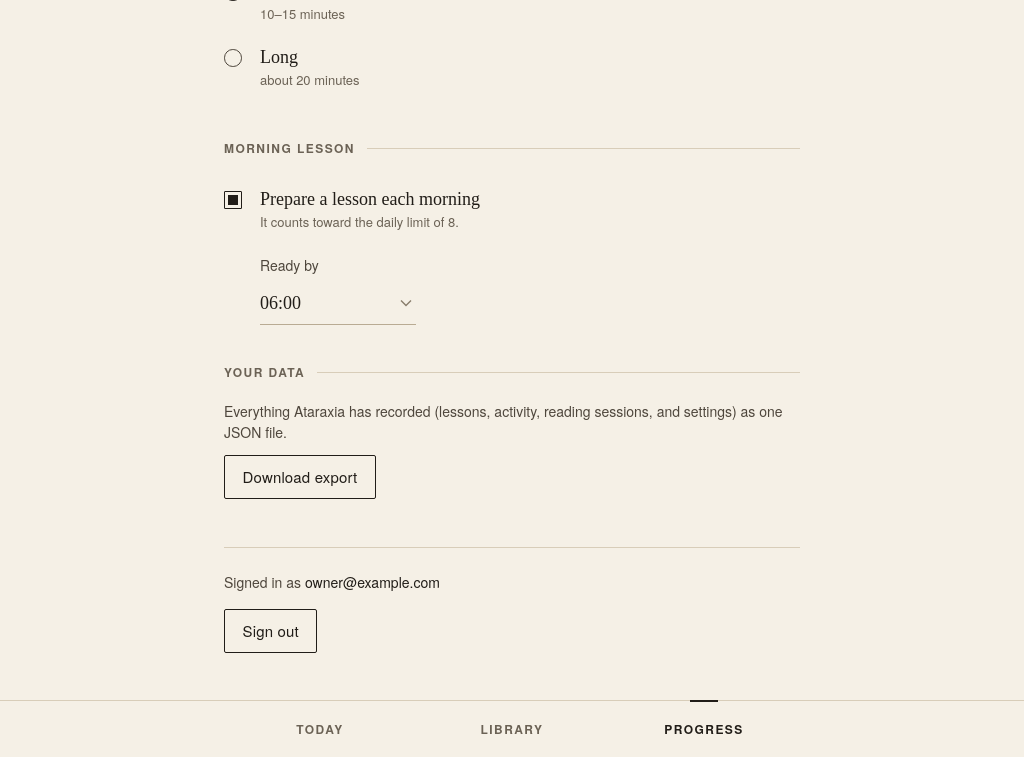
Settings › signs out in firebase mode
(page scrolled)
Check: the text "owner@example.com" is shown, box [305,572,440,592]
Click the button "Sign out": (271, 631) [224,609,317,653]
(page scrolled)
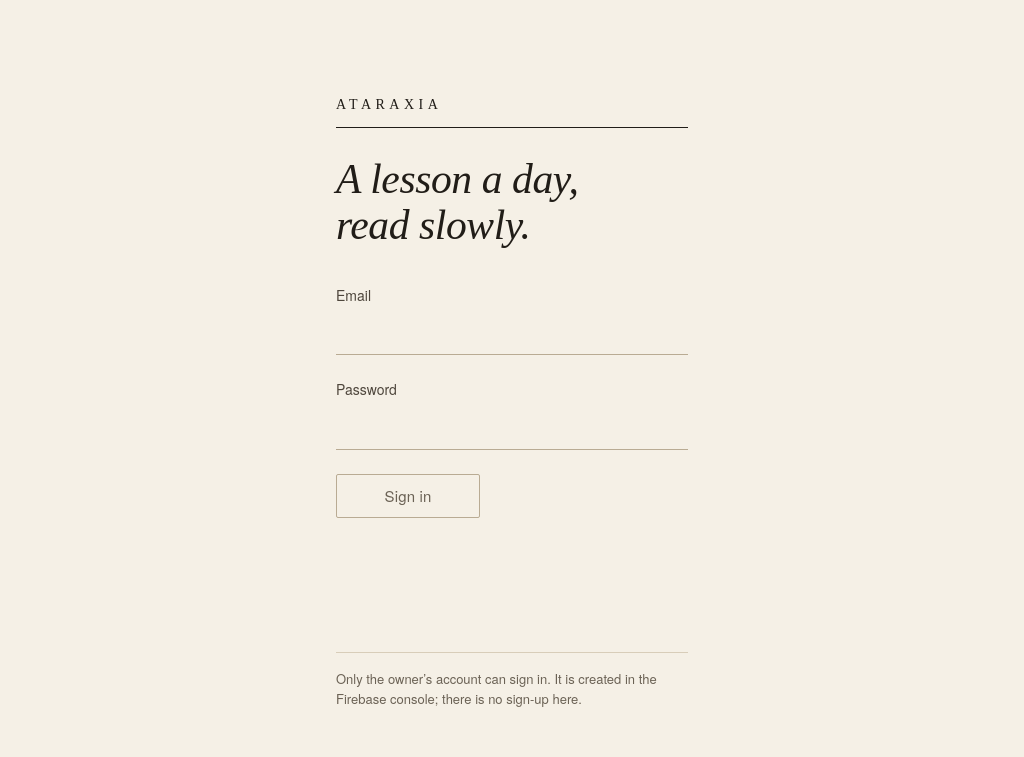
Check: the button "Sign in" is shown, box [336,474,480,518]
